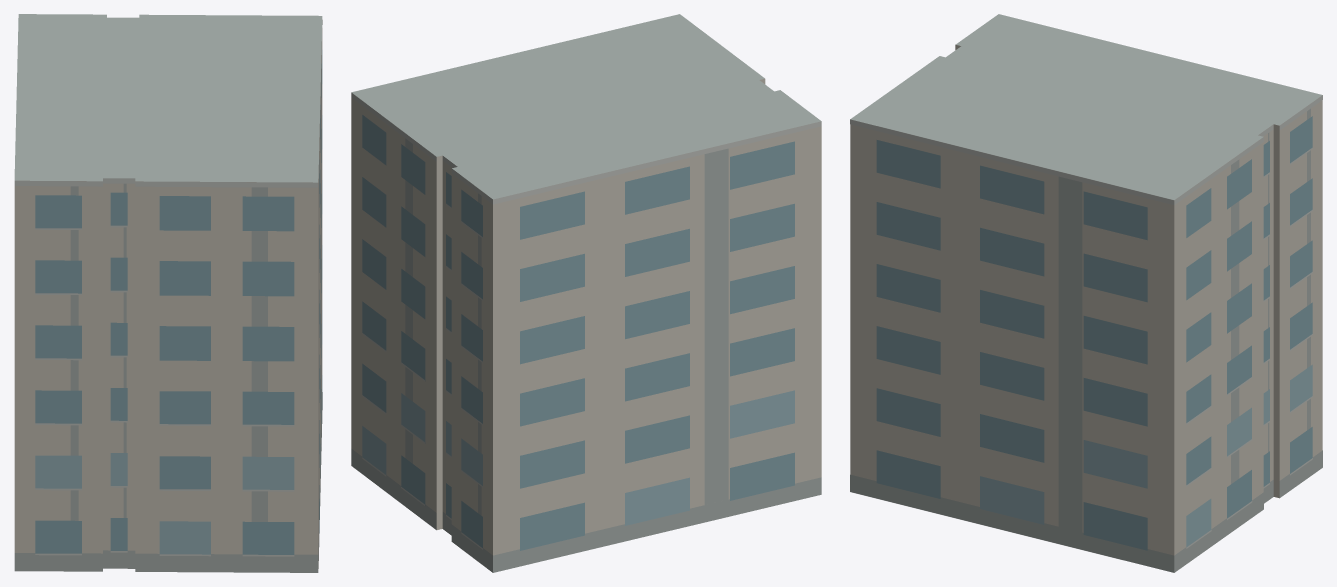
Rendered from survey-upis-32797093.glb.
The picture shows the model from 3 angles, left to right: view 1: azimuth 30°, elevation 25°; view 2: azimuth 150°, elevation 25°; view 3: azimuth 270°, elevation 25°; orthographic projection. The views are drawn at different scales.
Parts seen in each view (by area): view 1: survey-upis-32797093.tmp; view 2: survey-upis-32797093.tmp; view 3: survey-upis-32797093.tmp.
Part boxes in pixels (x1,y1,x2,y2): survey-upis-32797093.tmp: [14, 14, 322, 572]; survey-upis-32797093.tmp: [351, 14, 821, 572]; survey-upis-32797093.tmp: [850, 14, 1322, 572].
Size of the model in its own units: 19.3 by 18 by 20.7.
